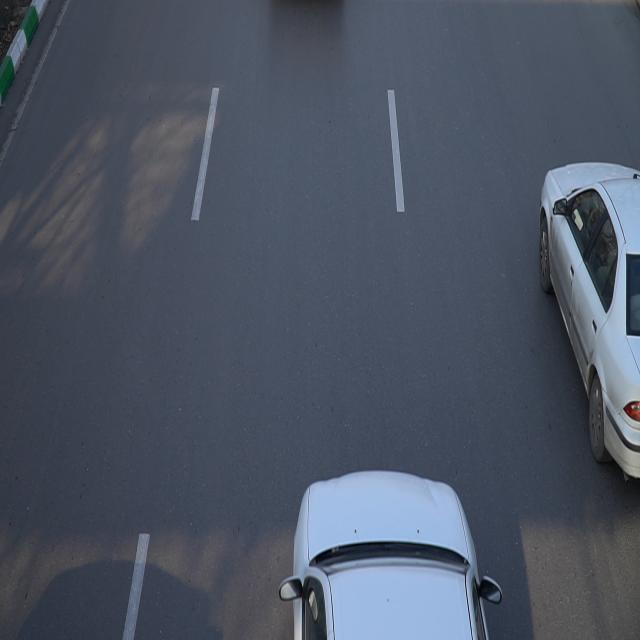car: (279, 481, 505, 640), (540, 161, 640, 475)
